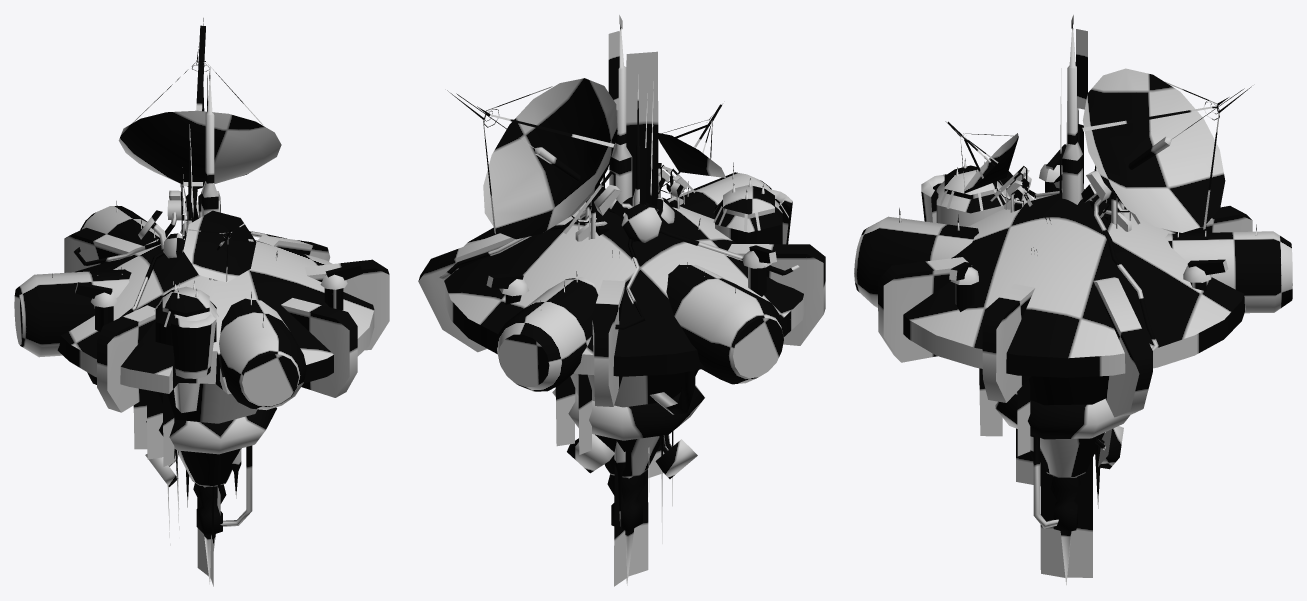
File: building_mission_central.obj
3 views of the same model, side by side, from view 1: azimuth 30°, elevation 25°; view 2: azimuth 150°, elevation 25°; view 3: azimuth 270°, elevation 25° (orthographic). The views are drawn at different scales.
Parts seen in each view (by area): view 1: building_mission_central_EIC; view 2: building_mission_central_EIC; view 3: building_mission_central_EIC.
Boxes of the visible parts, x1=… form: building_mission_central_EIC: x1=14, y1=18, x2=389, y2=586; building_mission_central_EIC: x1=418, y1=15, x2=825, y2=586; building_mission_central_EIC: x1=854, y1=15, x2=1292, y2=585.
Bounding box in the file's own units: 209 × 325 × 225.
Materials: 1 (1 with a texture image).
